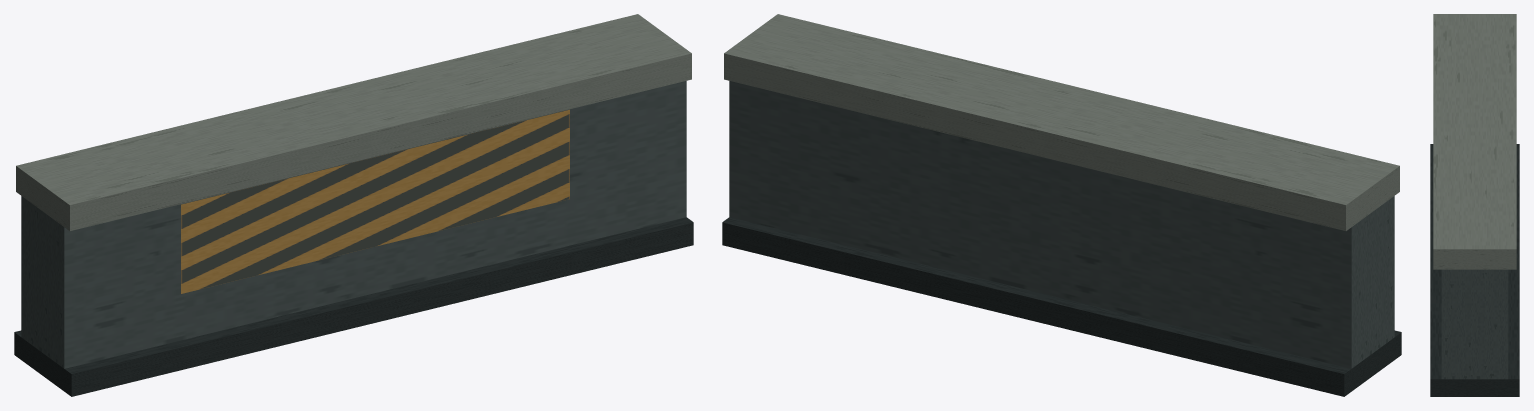
Rendered from RimBeam4m.fbx.
3 views of the same model, side by side, from view 1: azimuth 30°, elevation 25°; view 2: azimuth 150°, elevation 25°; view 3: azimuth 270°, elevation 25° (orthographic). The views are drawn at different scales.
Parts seen in each view (by area): view 1: RimBeam4m; view 2: RimBeam4m; view 3: RimBeam4m.
Part boxes in pixels (box(x1,y1,x2,y2)): RimBeam4m: box(14, 14, 693, 396); RimBeam4m: box(722, 14, 1401, 396); RimBeam4m: box(1430, 14, 1519, 396).
Bounding box in the file's own units: 400 × 117 × 64.
